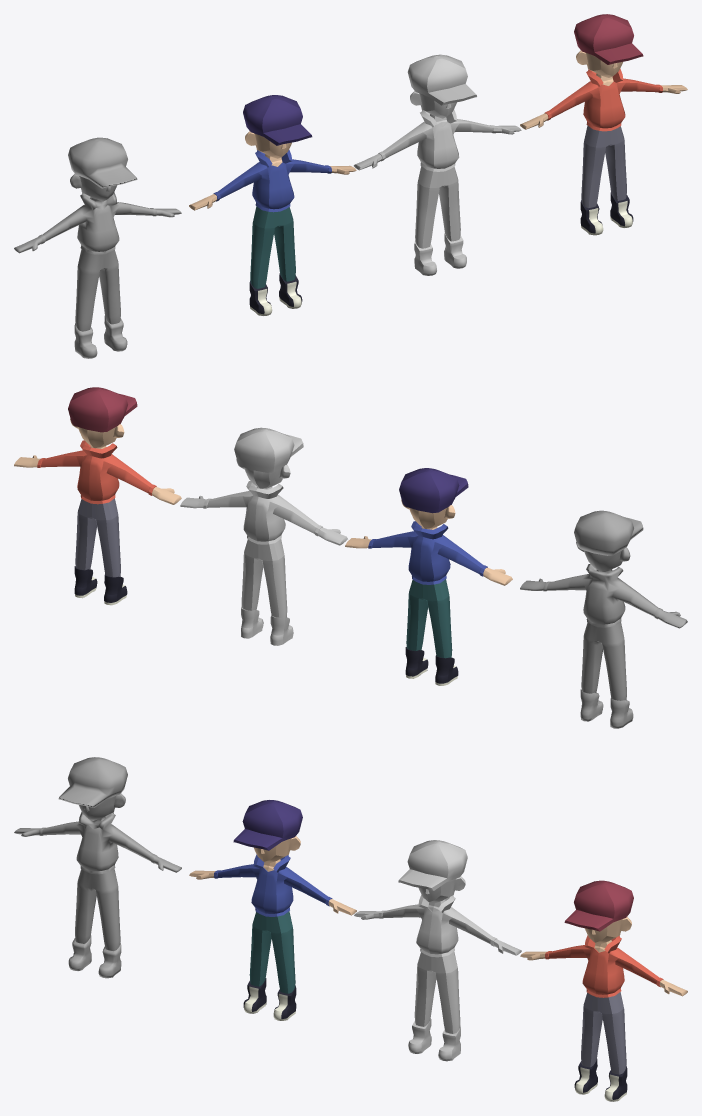
The model's file is MainCharacter_Model.fbx.
3 renders of one model, top to bottom at view 1: azimuth 30°, elevation 25°; view 2: azimuth 150°, elevation 25°; view 3: azimuth 330°, elevation 25°, orthographic.
Visible parts, largest first — view 1: pasted__pasted__pasted__polySurface9, polySurface9, pasted__polySurface9, pasted__pasted__polySurface9; view 2: polySurface9, pasted__polySurface9, pasted__pasted__polySurface9, pasted__pasted__pasted__polySurface9; view 3: pasted__polySurface9, polySurface9, pasted__pasted__pasted__polySurface9, pasted__pasted__polySurface9.
Part boxes in pixels (bbox=[...]): pasted__pasted__pasted__polySurface9: bbox=[520, 14, 687, 235]; polySurface9: bbox=[14, 137, 181, 358]; pasted__polySurface9: bbox=[189, 95, 356, 315]; pasted__pasted__polySurface9: bbox=[353, 54, 521, 275]; polySurface9: bbox=[520, 510, 687, 728]; pasted__polySurface9: bbox=[345, 468, 512, 685]; pasted__pasted__polySurface9: bbox=[180, 427, 347, 645]; pasted__pasted__pasted__polySurface9: bbox=[14, 387, 181, 605]; pasted__polySurface9: bbox=[189, 800, 356, 1020]; polySurface9: bbox=[14, 757, 181, 978]; pasted__pasted__pasted__polySurface9: bbox=[520, 880, 687, 1101]; pasted__pasted__polySurface9: bbox=[354, 840, 521, 1061].
Bounding box in the file's own units: 10.83 × 3.21 × 1.05.
